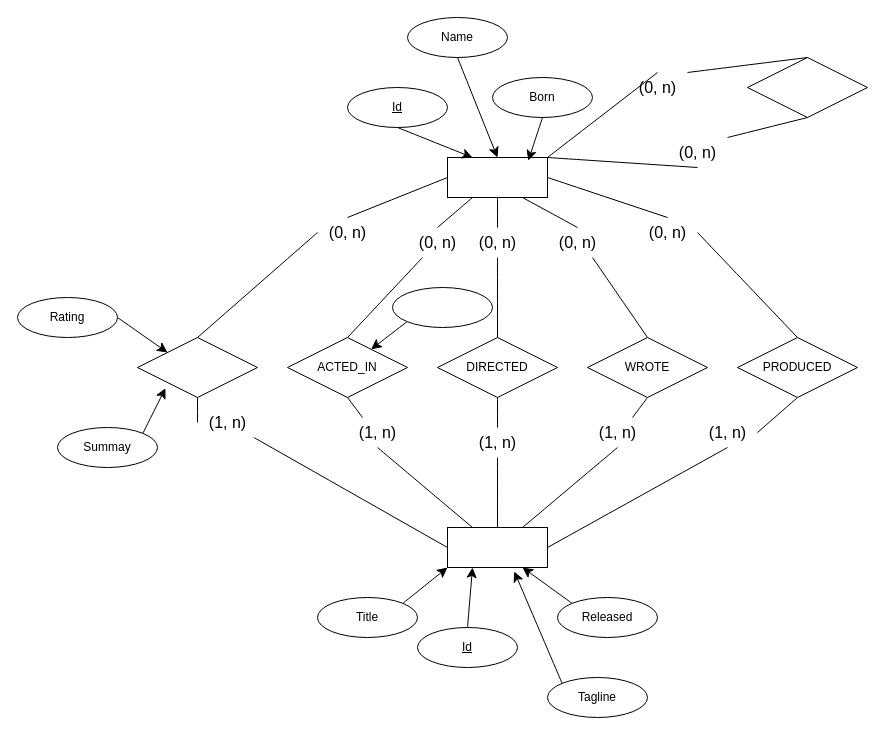
This 885x735 diagram has some shape labels left out. Each missing label, with the centre of its shape:
FOLLOWS: the point at 807,87
MOVIE: the point at 497,547
PERSON: the point at 497,177
REVIEWED: the point at 197,367
role: the point at 442,307
